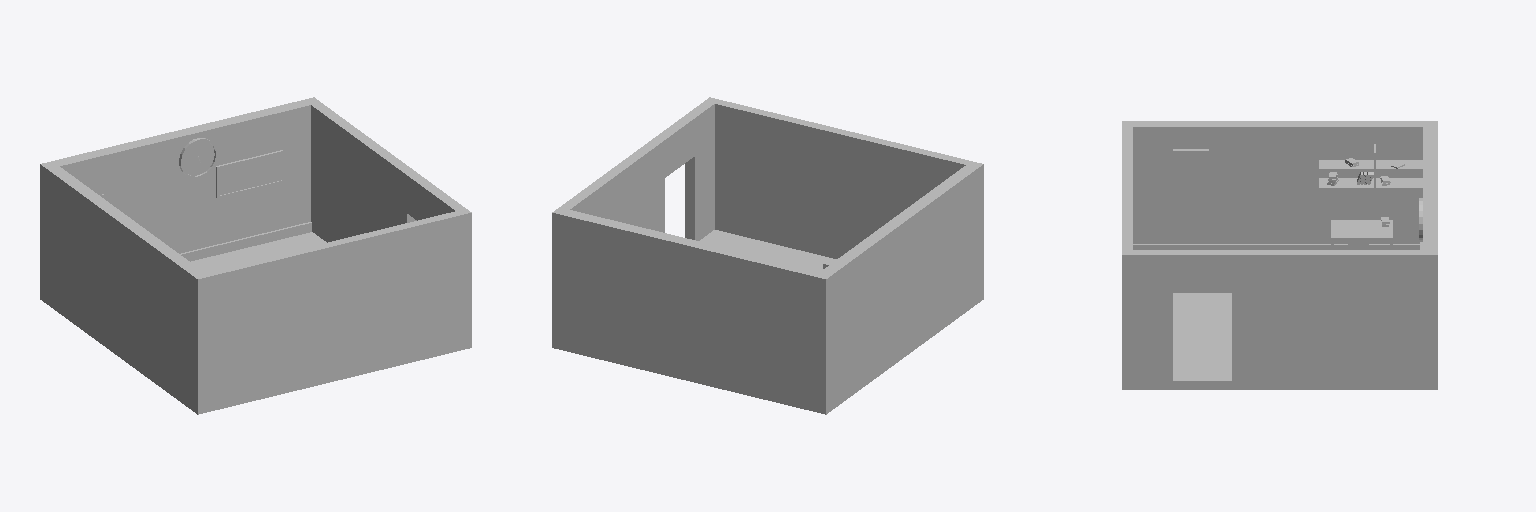
Rendered from floor 3.obj.
3 renders of one model, left to right at view 1: azimuth 30°, elevation 25°; view 2: azimuth 150°, elevation 25°; view 3: azimuth 270°, elevation 25°, orthographic.
Parts seen in each view (by area): view 1: room, floor, Circle.016; view 2: room, floor; view 3: room, floor.
Part boxes in pixels (x1,y1,x2,y2): room: (40,97,471,404); floor: (40,232,471,414); Circle.016: (179,138,216,177); room: (552,97,983,404); floor: (552,230,983,414); room: (1122,121,1437,380); floor: (1122,293,1437,389).
Bounding box in the file's own units: 16.63 × 7.85 × 16.57.